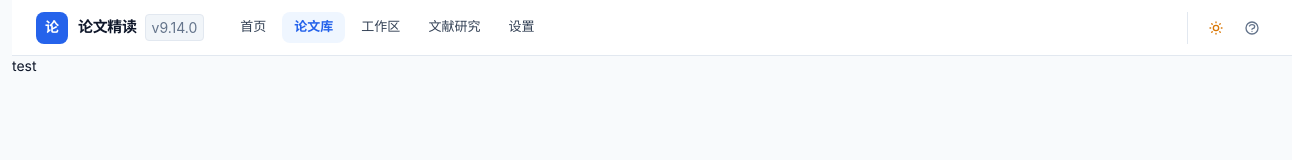
Test: 顶栏持久化自定义深色主题，明暗切换可以回到原自定义主题
Click the button titled "切换至明亮模式" at (1216, 28), box [1200,12,1232,44]
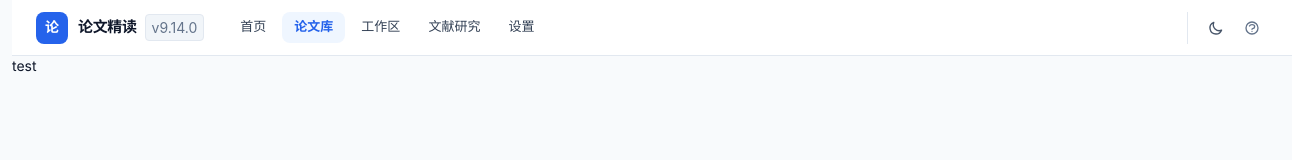
Click the button titled "切换至深色模式" at (1216, 28), box [1200,12,1232,44]
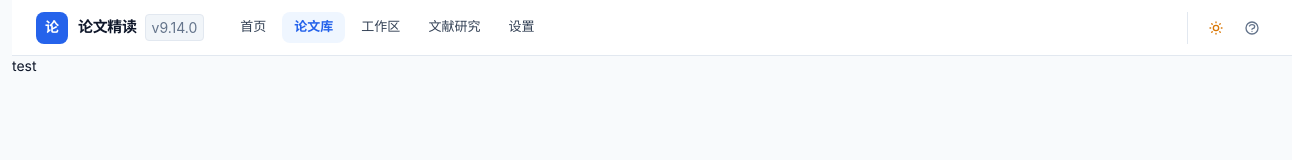
Expected: the button titled "切换至明亮模式" is shown, [1200,12,1232,44]
